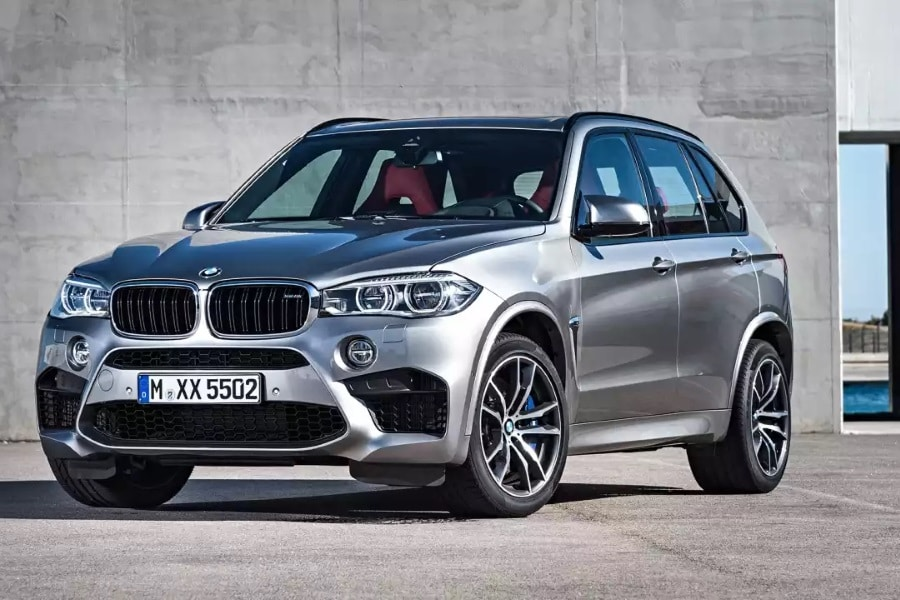car: (35, 113, 793, 519)
